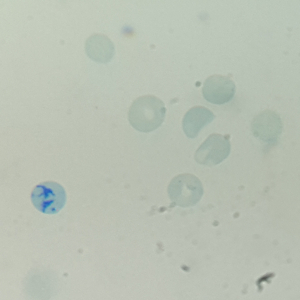aggregate reticulocyte: (29, 180, 68, 216)
erythrocyte: (126, 94, 168, 134), (192, 131, 233, 167), (180, 104, 217, 139), (200, 72, 237, 106), (247, 109, 284, 143), (83, 32, 117, 65)
punctate reticulocyte: (166, 172, 205, 208)
